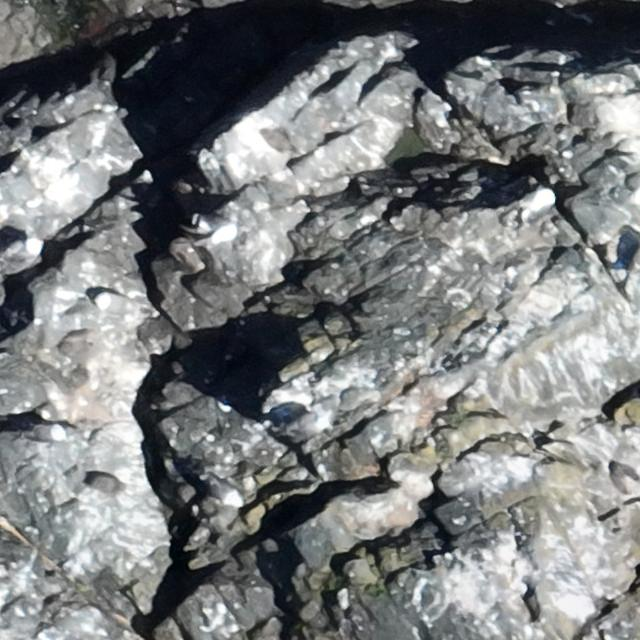umineko: (191, 209, 236, 242), (512, 187, 555, 221), (92, 290, 140, 315), (1, 240, 45, 267), (206, 476, 243, 508), (30, 421, 70, 441)
